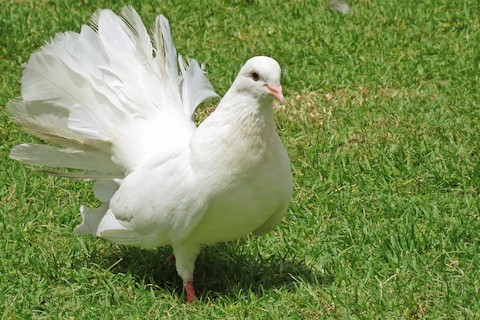pigeon: (7, 4, 296, 310)
